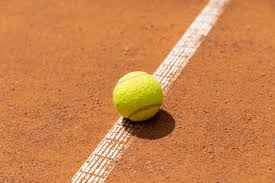tennis_ball: (112, 69, 163, 123)
